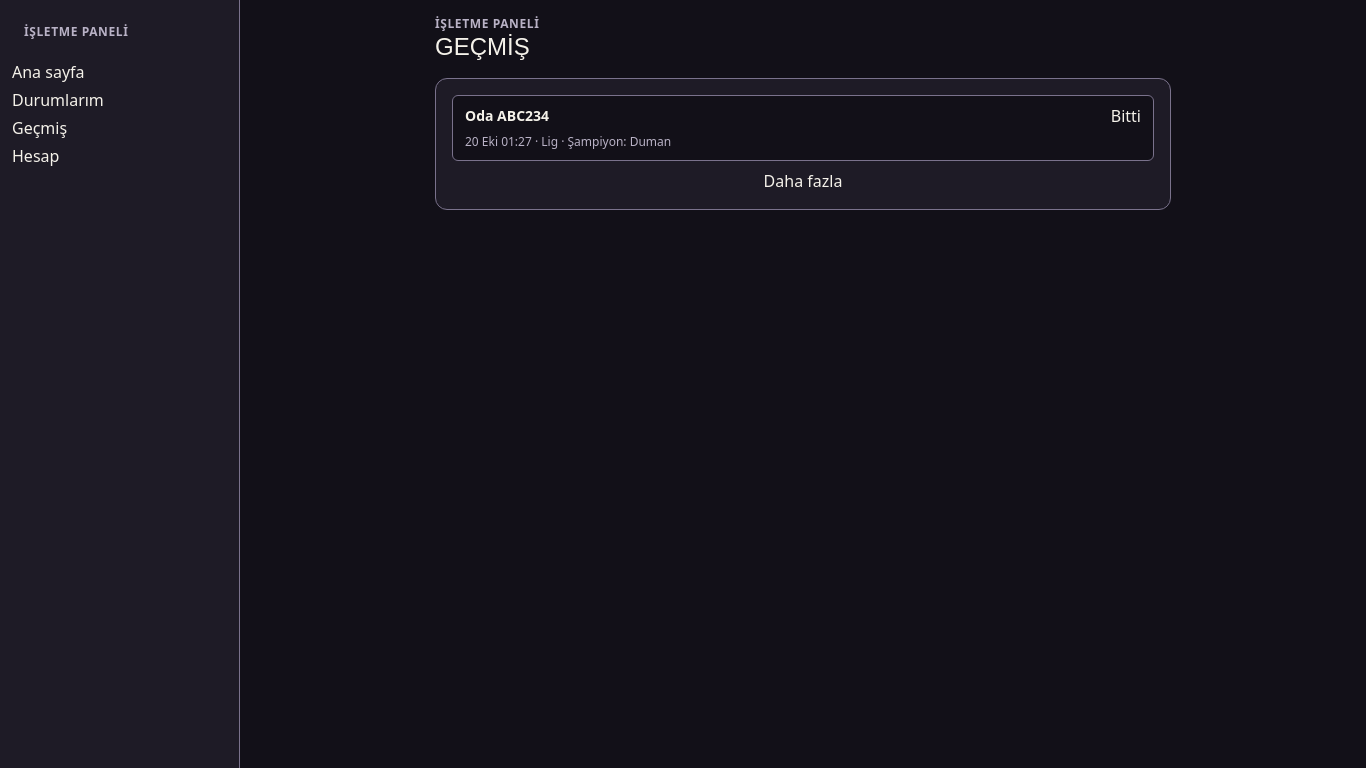
Test: BusinessHistoryPage › daha fazla yüklenemezse uyarı gösterir ve butonu bırakır
Check: the link "Oda ABC234 Bitti 20 Eki 01:27 · Lig · Şampiyon: Duman" is shown, box [452,95,1154,161]
What coordinates should you click on to do the following:
click the button "Daha fazla"
I would click on:
 (803, 181)
Its box is [452,169,1154,193].
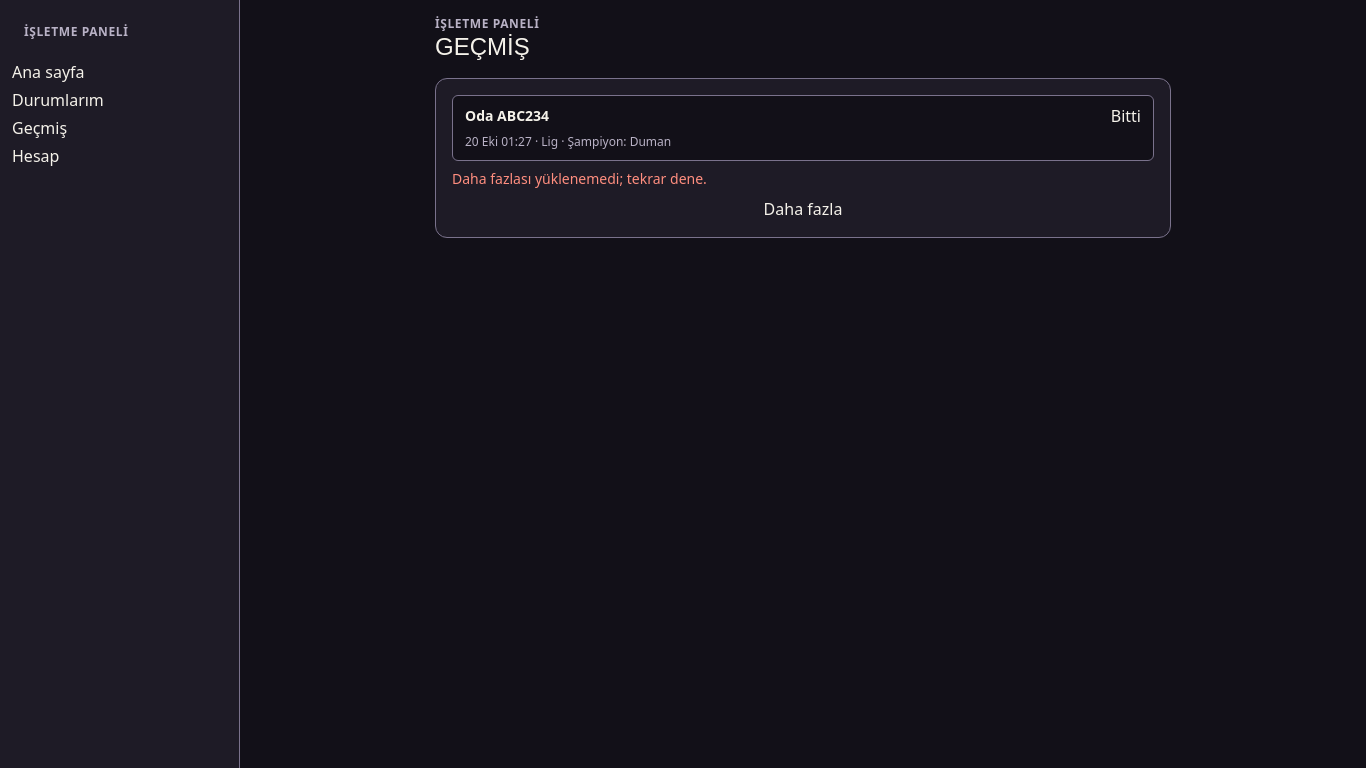
Check: the button "Daha fazla" is enabled, box [452,197,1154,221]
Check: the message reads "Daha fazlası yüklenemedi; tekrar dene.", box [452,169,707,188]
